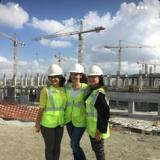Helmet: (86, 65, 105, 76), (46, 64, 63, 76), (67, 64, 85, 74)
Vest: (84, 85, 110, 139), (39, 84, 67, 128), (65, 82, 91, 128)
